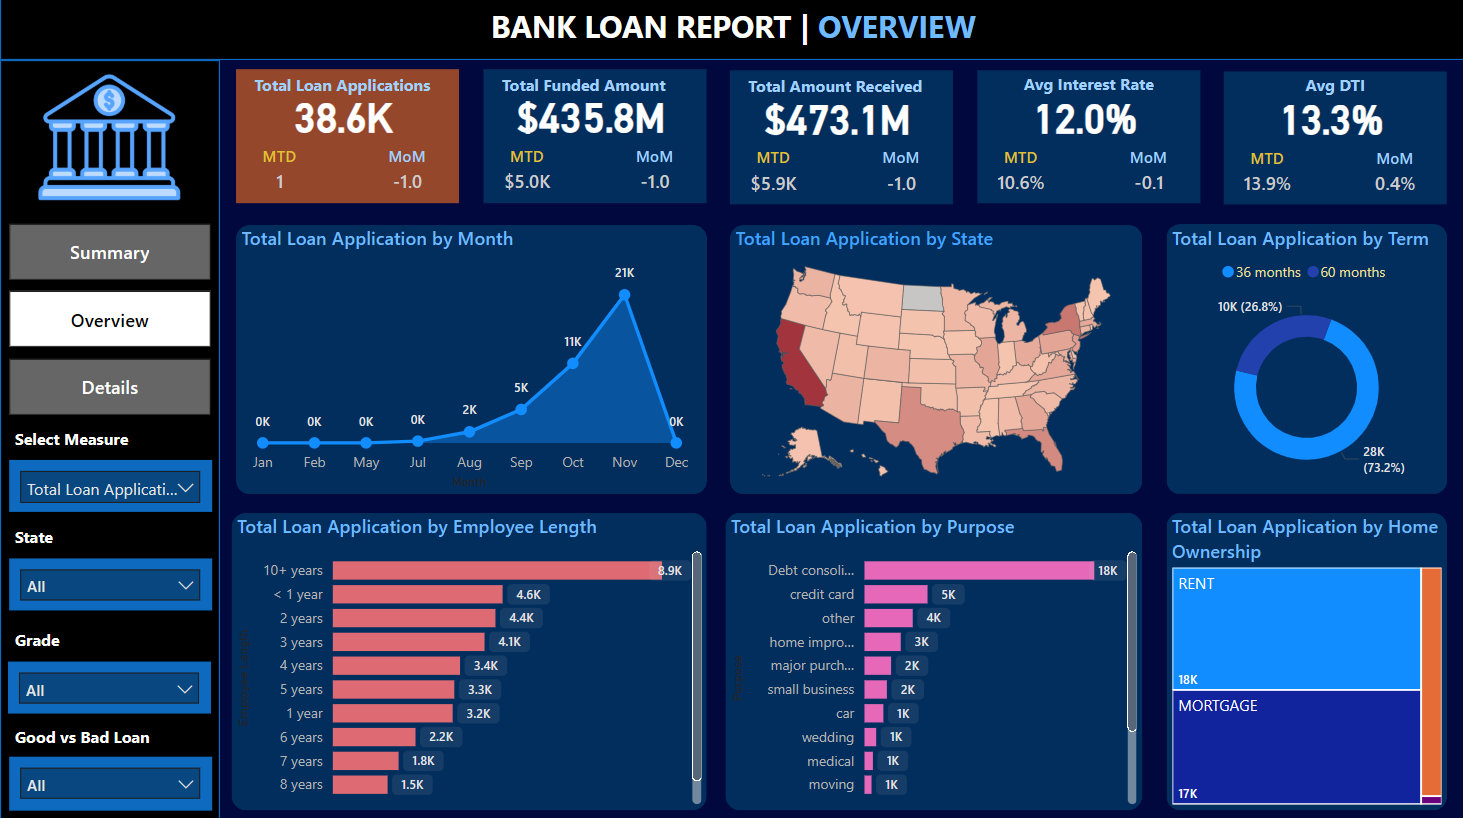

What the dashboard file says about the page in this screenshot:
{"tool":"powerbi","page":{"name":"Overview","canvas":[1280,720],"ordinal":1},"visuals":[{"type":"shape","box":[0,0,1280,54.7],"z":0},{"type":"shape","box":[206.3,62.9,194.9,116.5],"z":0,"group":"g3"},{"type":"shape","box":[421.8,62.9,194.9,116.5],"z":0,"group":"g4"},{"type":"shape","box":[852.9,63.8,194.9,116.5],"z":0,"group":"g6"},{"type":"shape","box":[637.4,63.9,194.9,116.5],"z":0,"group":"g5"},{"type":"shape","box":[1068.5,64.8,194.9,116.5],"z":0,"group":"g7"},{"type":"shape","box":[0,54.7,192,665.3],"z":1000},{"type":"card","fields":{"Values":["bank_loan_data.Total Loan Application"]},"box":[202.2,81.5,194.9,43.3],"z":1000,"group":"g3"},{"type":"card","fields":{"Values":["bank_loan_data.Total Funded Amount"]},"box":[417.7,81.5,194.9,43.3],"z":1000,"group":"g4"},{"type":"card","fields":{"Values":["bank_loan_data.Avg Interest Rate"]},"box":[848.8,82.4,194.9,43.3],"z":1000,"group":"g6"},{"type":"card","fields":{"Values":["bank_loan_data.Total Amount Received"]},"box":[633.3,82.5,194.9,43.3],"z":1000,"group":"g5"},{"type":"card","fields":{"Values":["bank_loan_data.Avg DTI"]},"box":[1064.4,83.4,194.9,43.3],"z":1000,"group":"g7"},{"type":"textbox","box":[849.7,61.9,197,39.2],"z":2000,"group":"g6"},{"type":"textbox","box":[217.7,62.9,165,37.1],"z":2000,"group":"g3"},{"type":"textbox","box":[433.2,62.9,165,37.1],"z":2000,"group":"g4"},{"type":"textbox","box":[1065.3,62.9,197,39.2],"z":2000,"group":"g7"},{"type":"textbox","box":[648.8,63.9,165,37.1],"z":2000,"group":"g5"},{"type":"shape","box":[206.4,198.8,410.6,235.5],"z":2000},{"type":"textbox","box":[420.8,3.1,438.3,49.5],"z":3000},{"type":"card","title":"MTD","fields":{"Values":["bank_loan_data.MTD Loan Applications"]},"box":[217.7,129.9,53.6,49.5],"z":3000,"group":"g3"},{"type":"card","title":"MTD","fields":{"Values":["bank_loan_data.MTD Funded Amount"]},"box":[433.2,129.9,53.6,49.5],"z":3000,"group":"g4"},{"type":"card","title":"MTD","fields":{"Values":["bank_loan_data.MTD Total Amount Recieved"]},"box":[648.8,130.9,53.6,49.5],"z":3000,"group":"g5"},{"type":"card","title":"MTD","fields":{"Values":["bank_loan_data.MTD Avg Int Rate"]},"box":[864.3,130.9,53.6,49.5],"z":3000,"group":"g6"},{"type":"card","title":"MTD","fields":{"Values":["bank_loan_data.MTD Avg DTI"]},"box":[1079.9,131.9,53.6,49.5],"z":3000,"group":"g7"},{"type":"group","id":"g1","title":"Group 1","box":[202.2,62.9,199.1,116.5],"z":4000},{"type":"card","title":"MoM","fields":{"Values":["bank_loan_data.MoM Loan Applications"]},"box":[329.1,129.9,53.6,49.5],"z":4000,"group":"g3"},{"type":"card","title":"MoM","fields":{"Values":["bank_loan_data.MoM Total Funded Amount"]},"box":[544.6,129.9,53.6,49.5],"z":4000,"group":"g4"},{"type":"card","title":"MoM","fields":{"Values":["bank_loan_data.MoM Total Amount Received"]},"box":[760.2,130.9,53.6,49.5],"z":4000,"group":"g5"},{"type":"card","title":"MoM","fields":{"Values":["bank_loan_data.MoM Avg Int Rate"]},"box":[975.7,130.9,53.6,49.5],"z":4000,"group":"g6"},{"type":"card","title":"MoM","fields":{"Values":["bank_loan_data.MoM Avg DTI"]},"box":[1191.3,131.9,53.6,49.5],"z":4000,"group":"g7"},{"type":"group","id":"g2","title":"Group 1","box":[417.7,62.9,199.1,116.5],"z":5000},{"type":"group","id":"g3","title":"Group 2","box":[202.2,62.9,199.1,116.5],"z":5004,"group":"g1"},{"type":"group","id":"g4","title":"Group 2","box":[417.7,62.9,199.1,116.5],"z":5004,"group":"g2"},{"type":"group","id":"g5","title":"Group 2","box":[633.3,63.9,199.1,116.5],"z":6000},{"type":"group","id":"g6","title":"Group 2","box":[848.8,61.9,199.1,118.6],"z":7000},{"type":"group","id":"g7","title":"Group 2","box":[1064.4,62.9,199.1,118.6],"z":8000},{"type":"slicer","fields":{"Values":["bank_loan_data.address_state"]},"box":[8.3,489.9,176.4,46.4],"z":9000},{"type":"textbox","box":[8.3,456.9,60.9,33],"z":10000},{"type":"slicer","fields":{"Values":["bank_loan_data.grade"]},"box":[7.2,579.6,176.4,46.4],"z":11000},{"type":"slicer","fields":{"Values":["bank_loan_data.Good vs Bad Loan"]},"box":[8.3,663.2,176.4,46.4],"z":12000},{"type":"textbox","box":[8.3,632.2,140.3,33],"z":13000},{"type":"textbox","box":[8.3,546.6,60.9,33],"z":14000},{"type":"areaChart","fields":{"Y":["bank_loan_data.Total Loan Application"],"Category":["Date Table.Month"]},"box":[206.4,198.8,406.2,235.5],"z":15000},{"type":"slicer","fields":{"Values":["Select Measure.Select Measure"]},"box":[8.3,404.3,176.4,45.4],"z":16000},{"type":"textbox","box":[8.3,372.3,112.4,32],"z":17000},{"type":"shape","box":[637.4,198.8,360,235.5],"z":18000},{"type":"shapeMap","fields":{"Value":["bank_loan_data.Total Loan Application"],"Category":["bank_loan_data.address_state"]},"box":[637.4,199.1,360,235.2],"z":19000},{"type":"shape","box":[1018,198,245.5,236.2],"z":20000},{"type":"donutChart","fields":{"Y":["bank_loan_data.Total Loan Application"],"Category":["bank_loan_data.term"]},"box":[1018,199.1,244.4,235.2],"z":21000},{"type":"shape","box":[202.2,449.7,414.6,259.9],"z":22000},{"type":"barChart","fields":{"Y":["bank_loan_data.Total Loan Application"],"Category":["bank_loan_data.emp_length"]},"box":[202.2,449.7,414.6,259.9],"z":23000},{"type":"shape","box":[633.3,449.7,364.1,259.9],"z":24000},{"type":"barChart","fields":{"Y":["bank_loan_data.Total Loan Application"],"Category":["bank_loan_data.purpose"]},"box":[633.3,449.7,364.1,259.9],"z":25000},{"type":"shape","box":[1018,449.7,245.5,259.9],"z":26000},{"type":"image","box":[25.8,52.6,139.2,139.2],"z":27000},{"type":"treemap","fields":{"Values":["bank_loan_data.Total Loan Application"],"Group":["bank_loan_data.home_ownership"]},"box":[1018,449.7,245.5,259.9],"z":28000},{"type":"pageNavigator","box":[8.3,198,175.3,168.1],"z":29000}]}

Visuals, with their boxes in screenshot pixels (x1, y1, x2, y2), scaled from the page's 1280x720 canvas onto the 1463x818 screenshot:
shape: left=0, top=0, right=1462, bottom=62
shape: left=236, top=71, right=459, bottom=204
shape: left=482, top=71, right=705, bottom=204
shape: left=975, top=72, right=1198, bottom=205
shape: left=729, top=73, right=951, bottom=205
shape: left=1221, top=74, right=1444, bottom=206
shape: left=0, top=62, right=219, bottom=817
card - bank_loan_data.Total Loan Application: left=231, top=93, right=454, bottom=142
card - bank_loan_data.Total Funded Amount: left=477, top=93, right=700, bottom=142
card - bank_loan_data.Avg Interest Rate: left=970, top=94, right=1193, bottom=143
card - bank_loan_data.Total Amount Received: left=724, top=94, right=947, bottom=143
card - bank_loan_data.Avg DTI: left=1217, top=95, right=1439, bottom=144
textbox: left=971, top=70, right=1196, bottom=115
textbox: left=249, top=71, right=437, bottom=114
textbox: left=495, top=71, right=684, bottom=114
textbox: left=1218, top=71, right=1443, bottom=116
textbox: left=742, top=73, right=930, bottom=115
shape: left=236, top=226, right=705, bottom=493
textbox: left=481, top=4, right=982, bottom=60
"MTD" card: left=249, top=148, right=310, bottom=204
"MTD" card: left=495, top=148, right=556, bottom=204
"MTD" card: left=742, top=149, right=803, bottom=205
"MTD" card: left=988, top=149, right=1049, bottom=205
"MTD" card: left=1234, top=150, right=1296, bottom=206
"Group 1" group: left=231, top=71, right=459, bottom=204
"MoM" card: left=376, top=148, right=437, bottom=204
"MoM" card: left=622, top=148, right=684, bottom=204
"MoM" card: left=869, top=149, right=930, bottom=205
"MoM" card: left=1115, top=149, right=1176, bottom=205
"MoM" card: left=1362, top=150, right=1423, bottom=206
"Group 1" group: left=477, top=71, right=705, bottom=204
"Group 2" group: left=231, top=71, right=459, bottom=204
"Group 2" group: left=477, top=71, right=705, bottom=204
"Group 2" group: left=724, top=73, right=951, bottom=205
"Group 2" group: left=970, top=70, right=1198, bottom=205
"Group 2" group: left=1217, top=71, right=1444, bottom=206
slicer - bank_loan_data.address_state: left=9, top=557, right=211, bottom=609
textbox: left=9, top=519, right=79, bottom=557
slicer - bank_loan_data.grade: left=8, top=658, right=210, bottom=711
slicer - bank_loan_data.Good vs Bad Loan: left=9, top=753, right=211, bottom=806
textbox: left=9, top=718, right=170, bottom=756
textbox: left=9, top=621, right=79, bottom=658
areaChart - bank_loan_data.Total Loan Application x Date Table.Month: left=236, top=226, right=700, bottom=493
slicer - Select Measure.Select Measure: left=9, top=459, right=211, bottom=511
textbox: left=9, top=423, right=138, bottom=459
shape: left=729, top=226, right=1140, bottom=493
shapeMap - bank_loan_data.Total Loan Application x bank_loan_data.address_state: left=729, top=226, right=1140, bottom=493
shape: left=1164, top=225, right=1444, bottom=493
donutChart - bank_loan_data.Total Loan Application x bank_loan_data.term: left=1164, top=226, right=1443, bottom=493
shape: left=231, top=511, right=705, bottom=806
barChart - bank_loan_data.Total Loan Application x bank_loan_data.emp_length: left=231, top=511, right=705, bottom=806
shape: left=724, top=511, right=1140, bottom=806
barChart - bank_loan_data.Total Loan Application x bank_loan_data.purpose: left=724, top=511, right=1140, bottom=806
shape: left=1164, top=511, right=1444, bottom=806
image: left=29, top=60, right=189, bottom=218
treemap - bank_loan_data.Total Loan Application x bank_loan_data.home_ownership: left=1164, top=511, right=1444, bottom=806
pageNavigator: left=9, top=225, right=210, bottom=416
